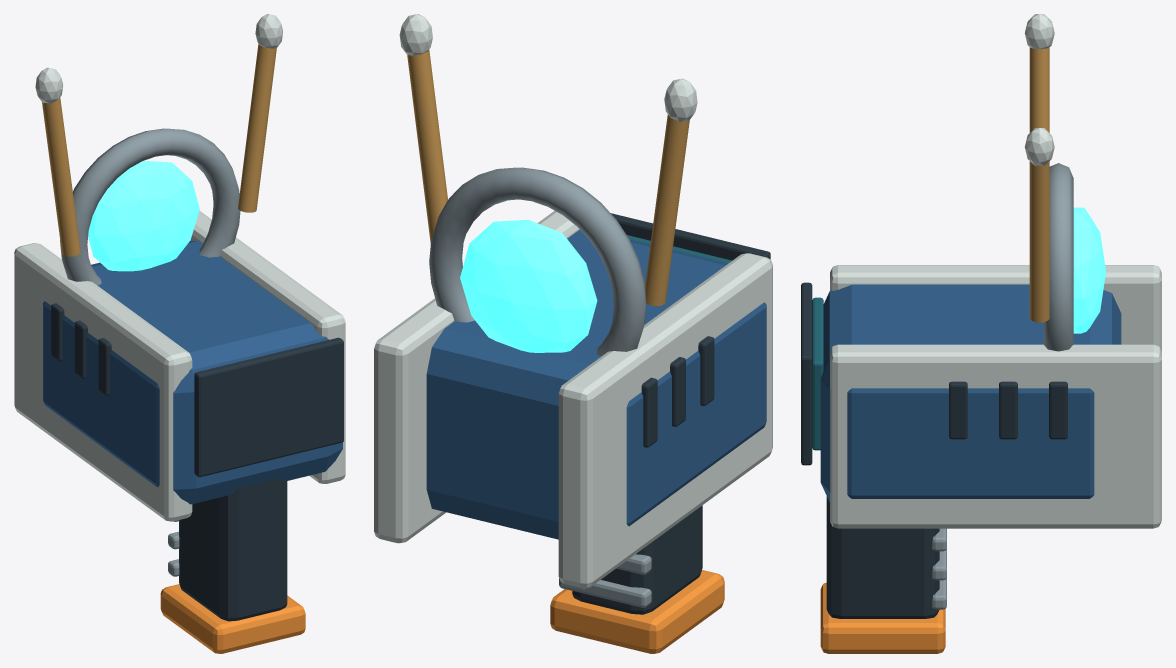
Rendered from argi_scanner.glb.
The picture shows the model from 3 angles, left to right: view 1: azimuth 30°, elevation 25°; view 2: azimuth 150°, elevation 25°; view 3: azimuth 270°, elevation 25°; orthographic projection. The views are drawn at different scales.
Visible parts, largest first — view 1: argi_scanner_mesh, Sensor_gimbal_mesh; view 2: argi_scanner_mesh, Sensor_gimbal_mesh; view 3: argi_scanner_mesh, Sensor_gimbal_mesh.
Part boxes in pixels (<box>): argi_scanner_mesh: <box>14,210,345,653</box>; Sensor_gimbal_mesh: <box>35,14,282,285</box>; argi_scanner_mesh: <box>374,210,772,653</box>; Sensor_gimbal_mesh: <box>399,14,697,356</box>; argi_scanner_mesh: <box>801,265,1161,653</box>; Sensor_gimbal_mesh: <box>1024,14,1105,351</box>.
Bounding box in the file's own units: 0.2378 × 0.4953 × 0.288.
